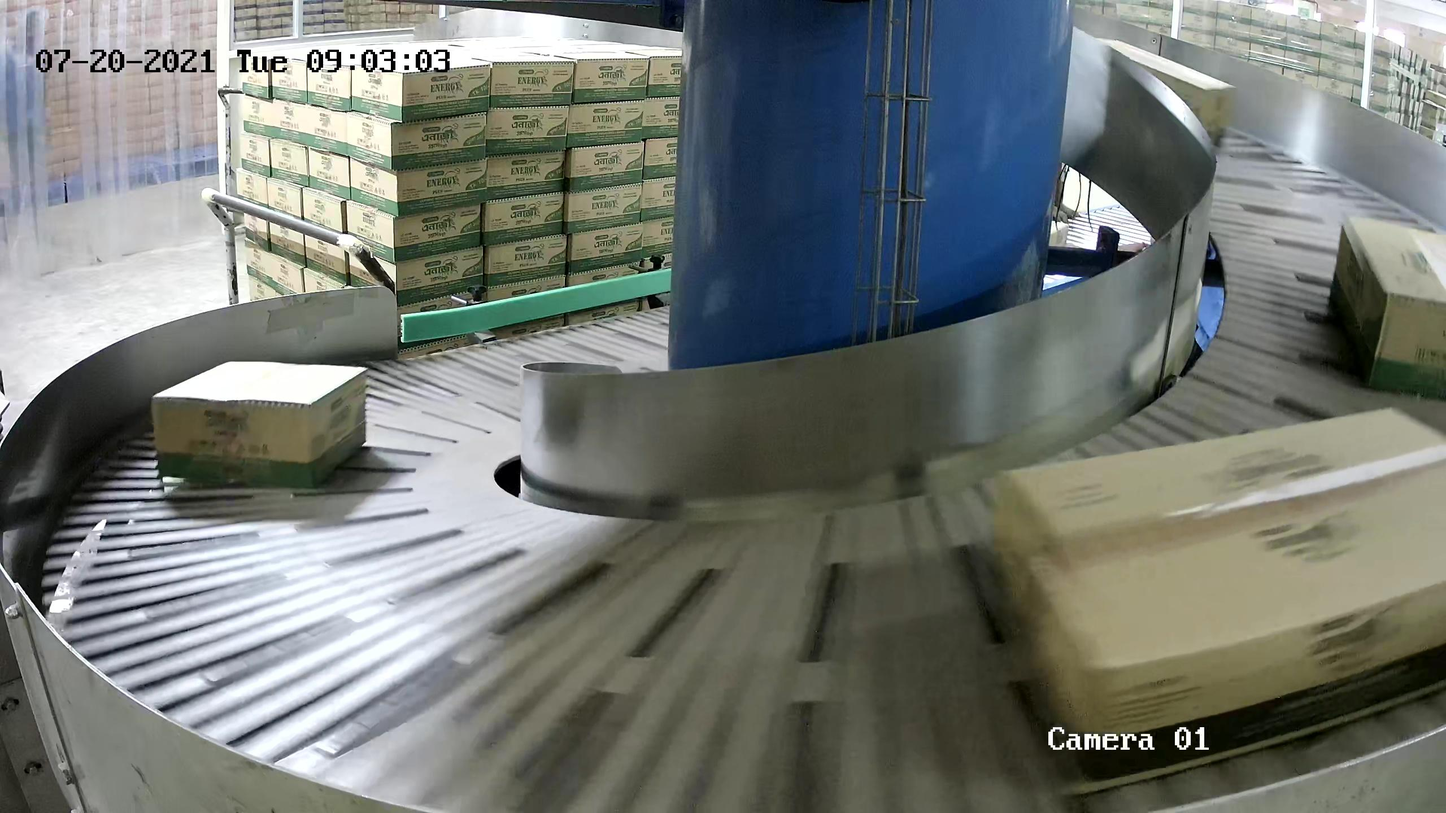Box: (985, 401, 1444, 799), (149, 358, 370, 491), (1328, 211, 1446, 403), (1093, 35, 1235, 147)
